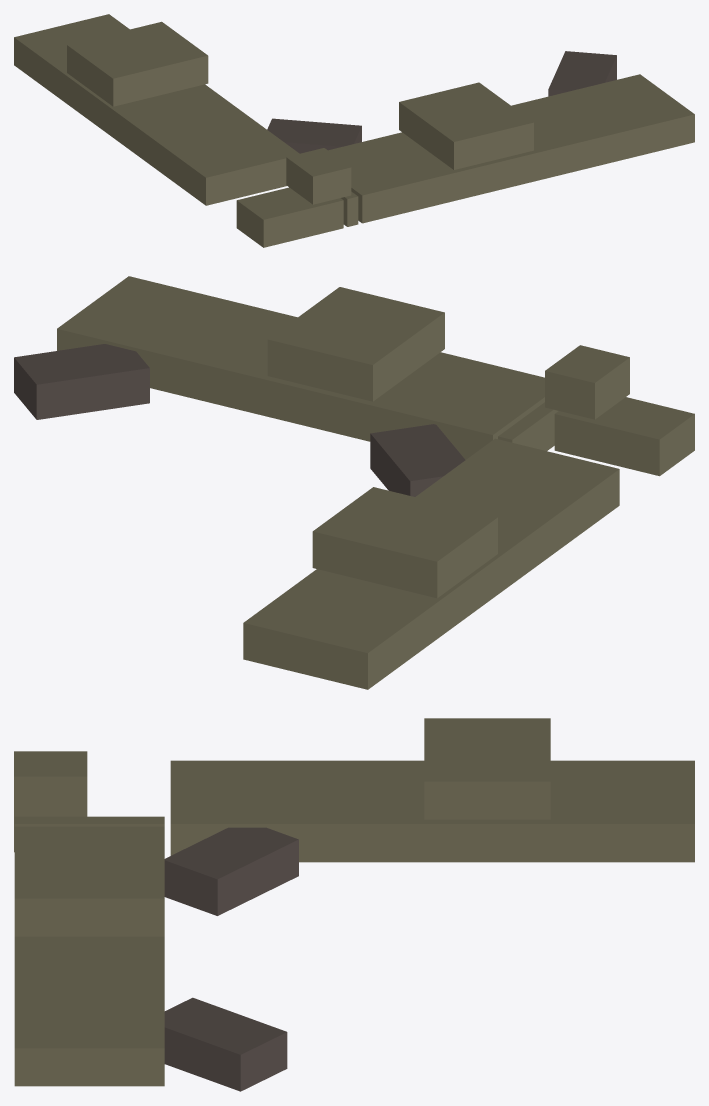
The model's file is SM_PretilEsquina_v1_Talud_e2_MuyDanado_LOD1.fbx.
3 views of the same model, one above another, from view 1: azimuth 30°, elevation 25°; view 2: azimuth 150°, elevation 25°; view 3: azimuth 270°, elevation 25° (orthographic). The views are drawn at different scales.
Parts seen in each view (by area): view 1: SM_pretil_azotea_v26_LOD1; view 2: SM_pretil_azotea_v26_LOD1; view 3: SM_pretil_azotea_v26_LOD1.
Boxes of the visible parts, box(x1,y1,x2,y2) form: SM_pretil_azotea_v26_LOD1: box(14, 14, 694, 247); SM_pretil_azotea_v26_LOD1: box(14, 276, 694, 689); SM_pretil_azotea_v26_LOD1: box(14, 718, 694, 1091).
Bounding box in the file's own units: 4.41 × 0.585 × 4.37.
